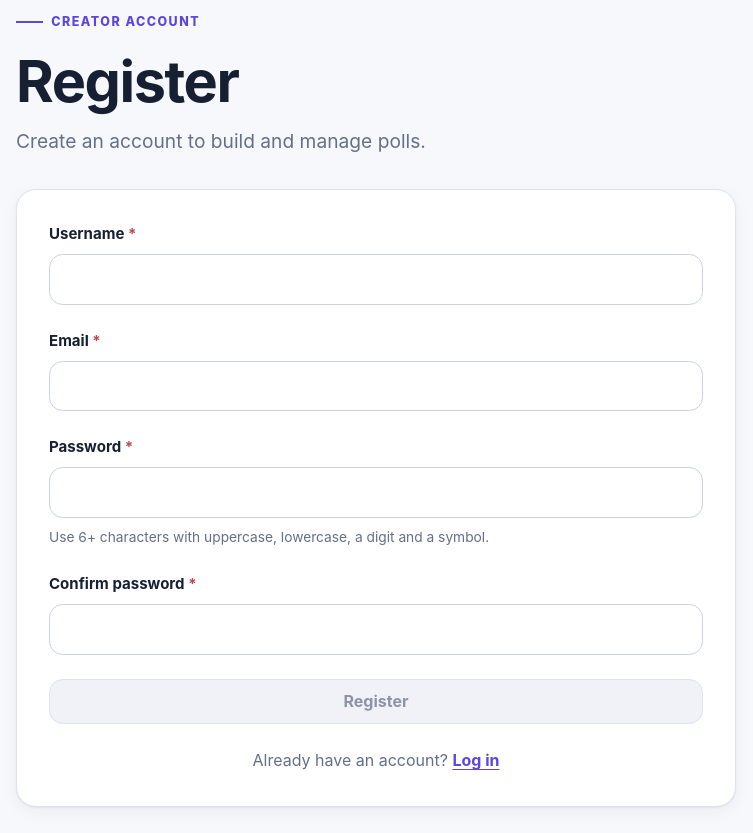
Test: RegisterView › displays ASP.NET Identity validation errors
The image size is (753, 833).
Type "NewCreator" into the field with id "register-username" at (376, 279), box [49, 254, 703, 305]
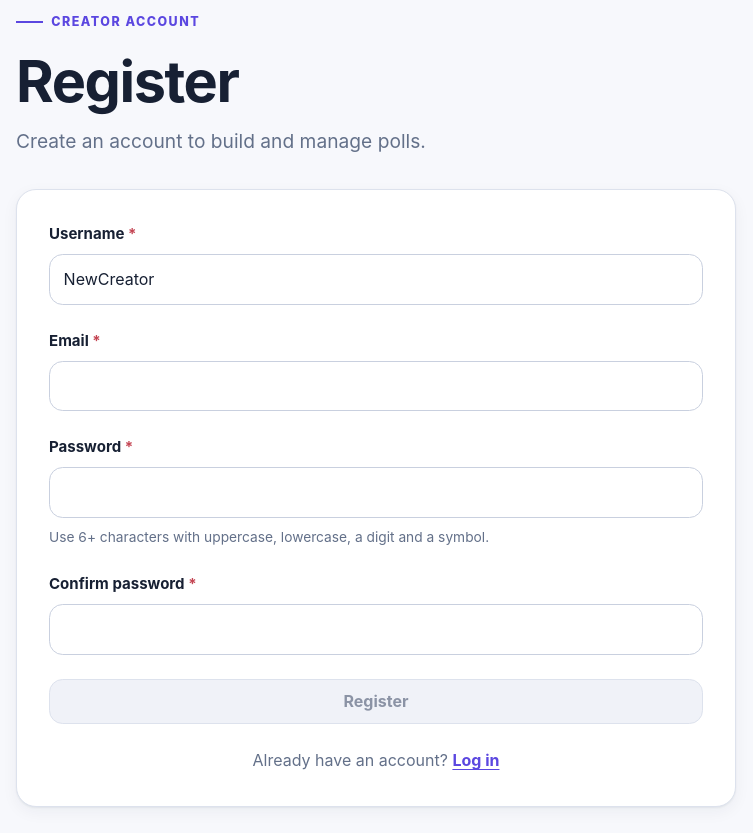
Type "new@example.com" into the field with id "register-email" at (376, 386), box [49, 361, 703, 411]
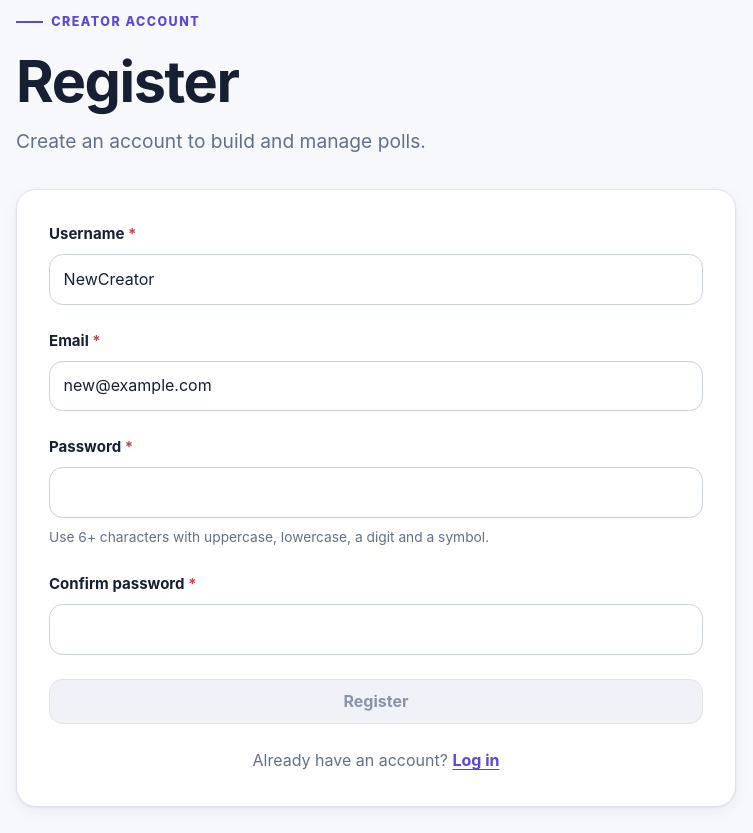
Type "Password1!" into the password field with id "register-password" at (376, 493), box [49, 467, 703, 518]
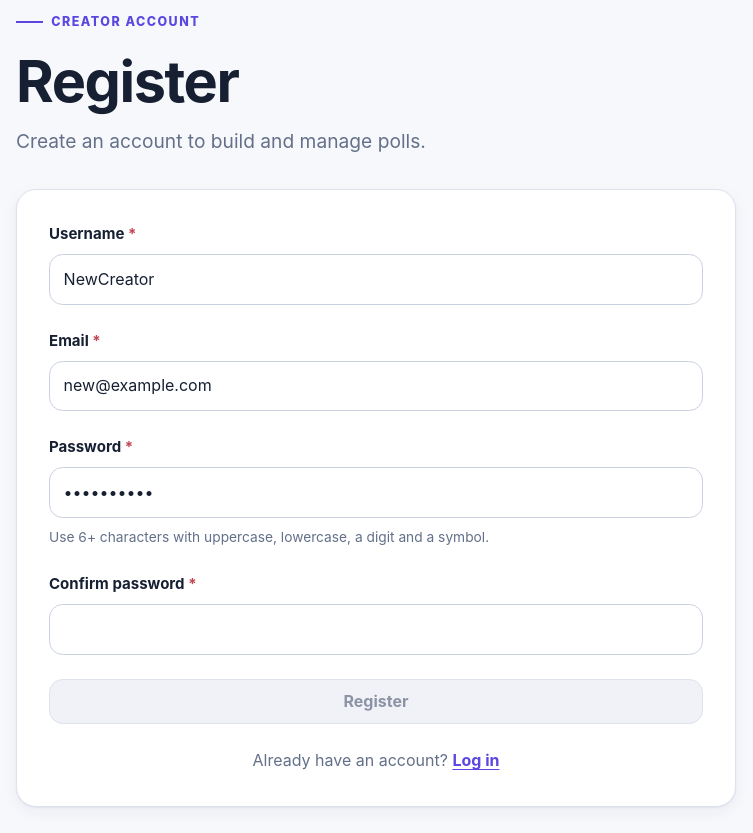
Type "Password1!" into the password field with id "register-confirm-password" at (376, 629), box [49, 604, 703, 655]
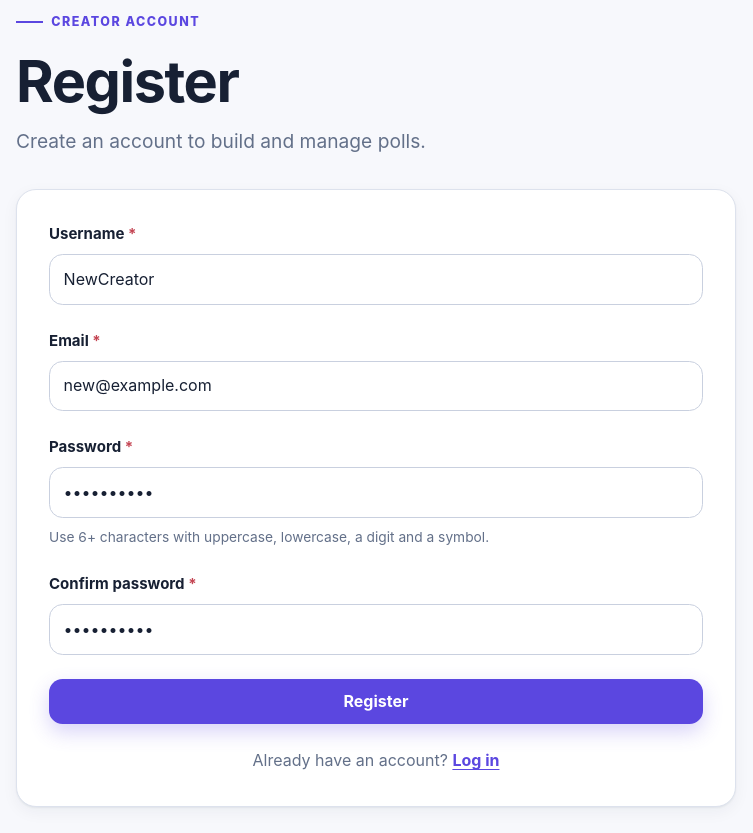
Submit the form
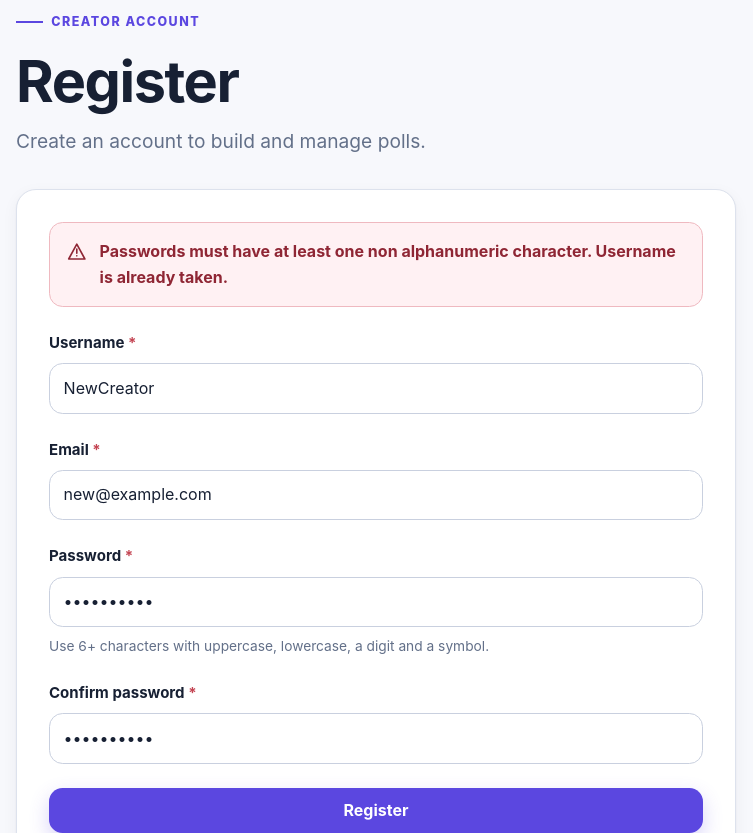
Expected: the message shows "Passwords must have at least one non alphanumeric character.", [100, 241, 676, 286]
Expected: the message shows "Username is already taken.", [100, 241, 676, 286]
